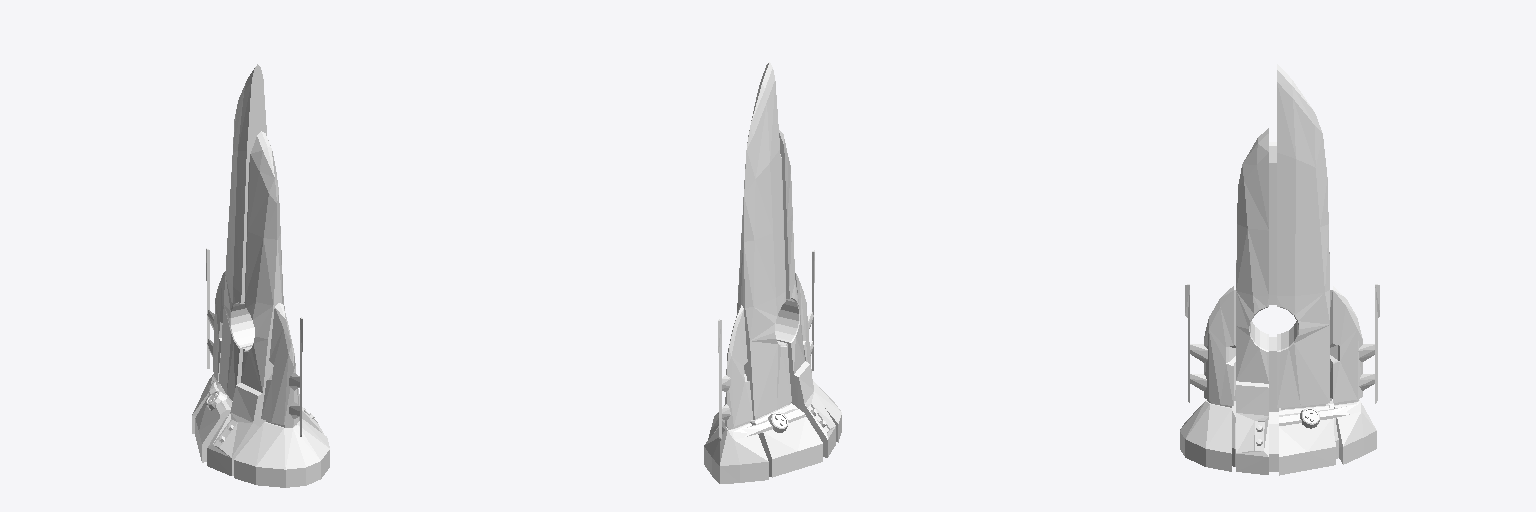
File: celouie.obj
3 views of the same model, side by side, from view 1: azimuth 30°, elevation 25°; view 2: azimuth 150°, elevation 25°; view 3: azimuth 270°, elevation 25° (orthographic).
Visible parts, largest first — view 1: Object.1; view 2: Object.1; view 3: Object.1.
Part boxes in pixels (x1,y1,x2,y2): Object.1: (192, 64, 329, 487); Object.1: (704, 62, 841, 483); Object.1: (1180, 64, 1379, 475).
Size of the model in its own units: 36.93 by 125 by 58.84.